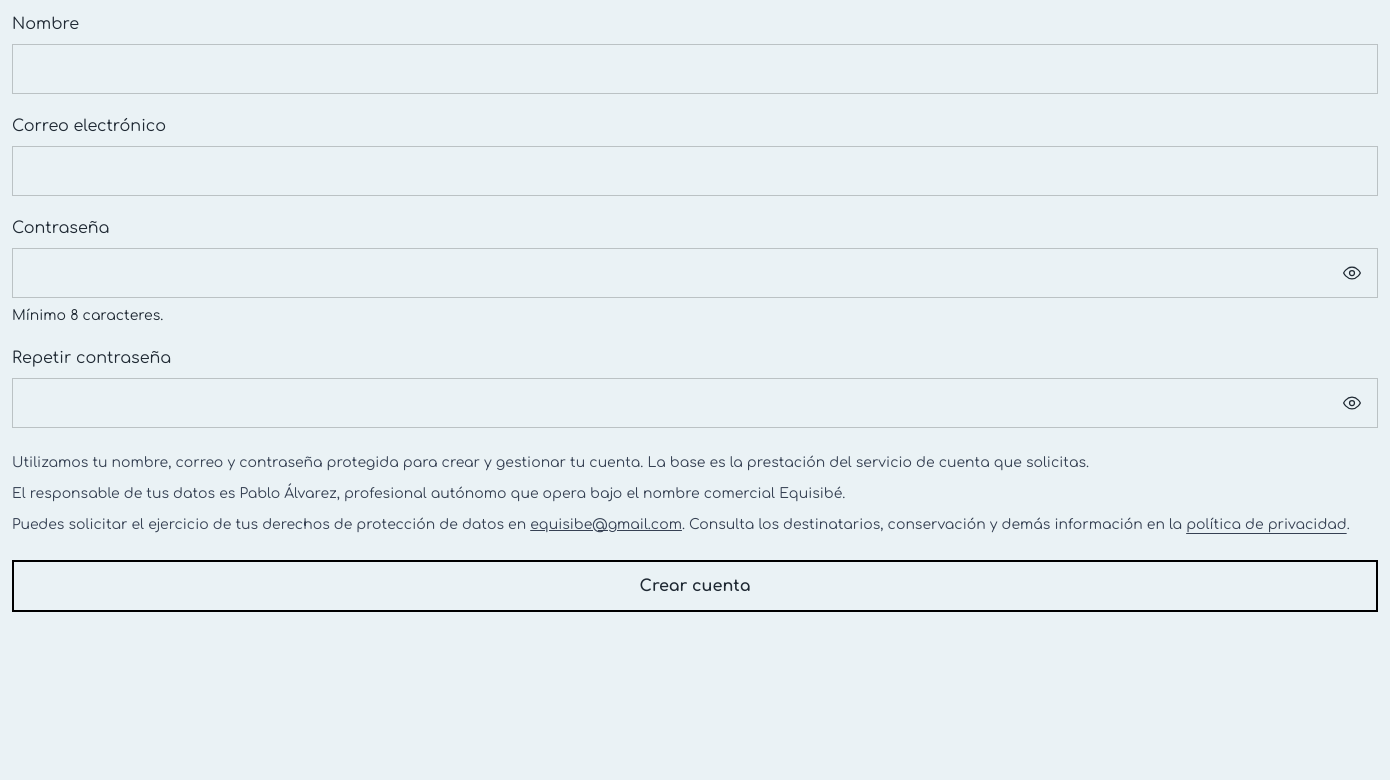
Scenario: RegisterForm › shows the duplicate email error and stays on registration
Type " Andrea " into the field with id "name" at (695, 69), box [12, 44, 1378, 94]
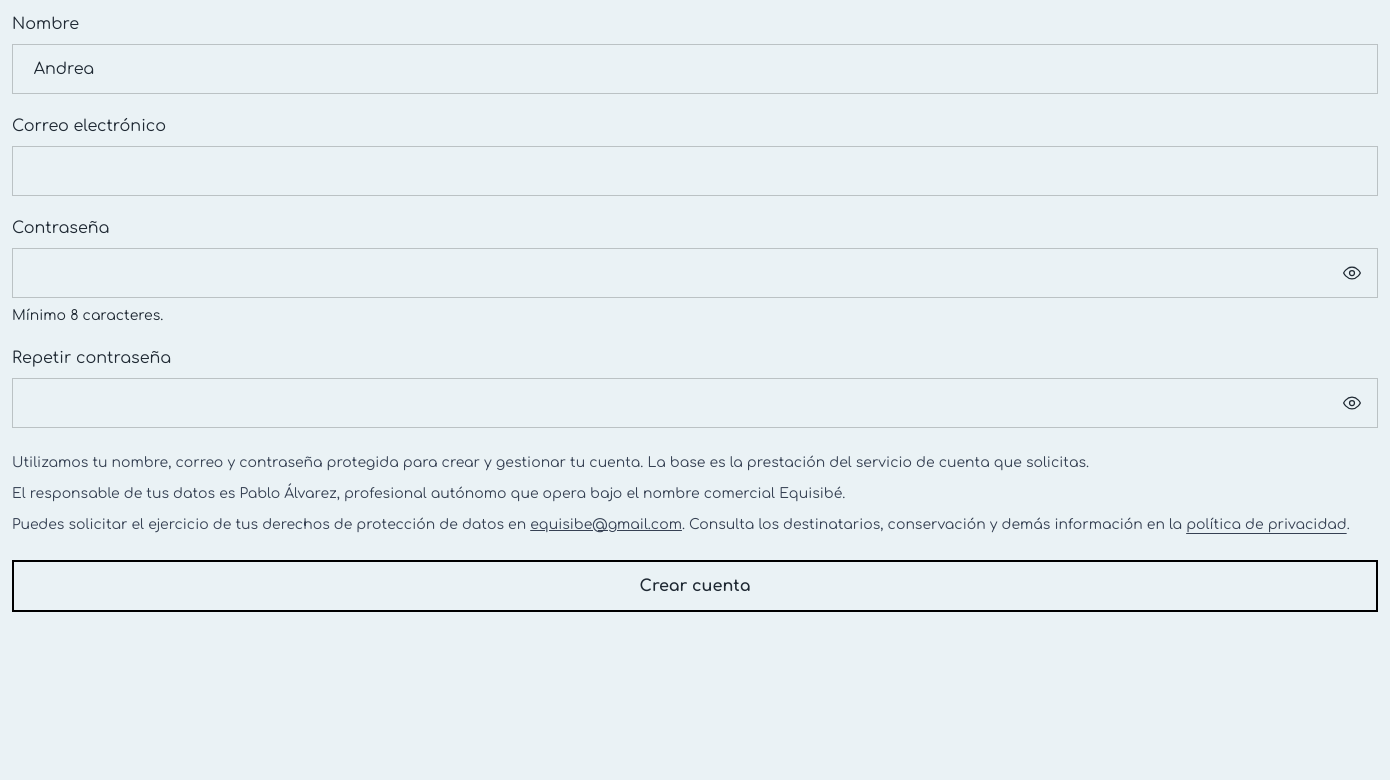
Type "andrea@example.com" into the field with id "email" at (695, 171), box [12, 146, 1378, 196]
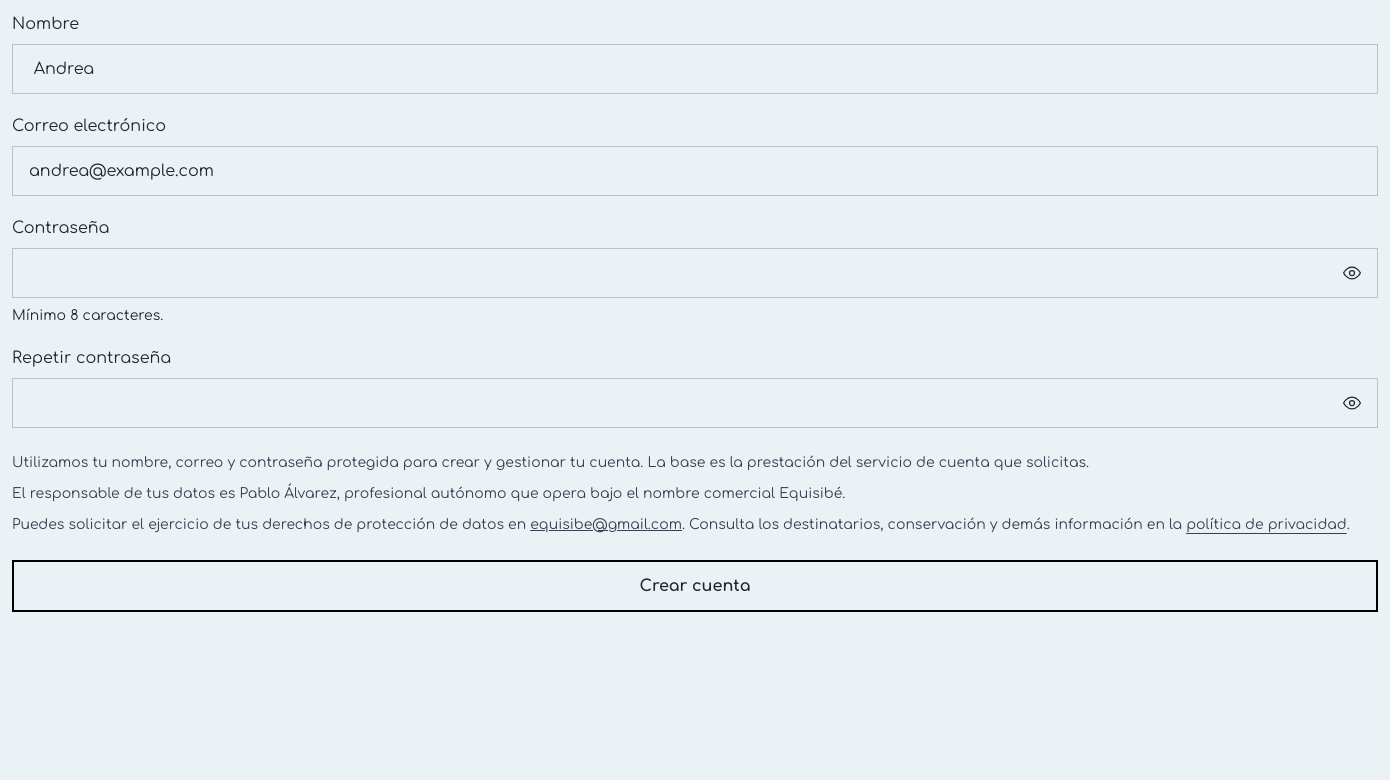
Type "Password123" into the password field labelled "Contraseña" at (695, 273), box [12, 248, 1378, 298]
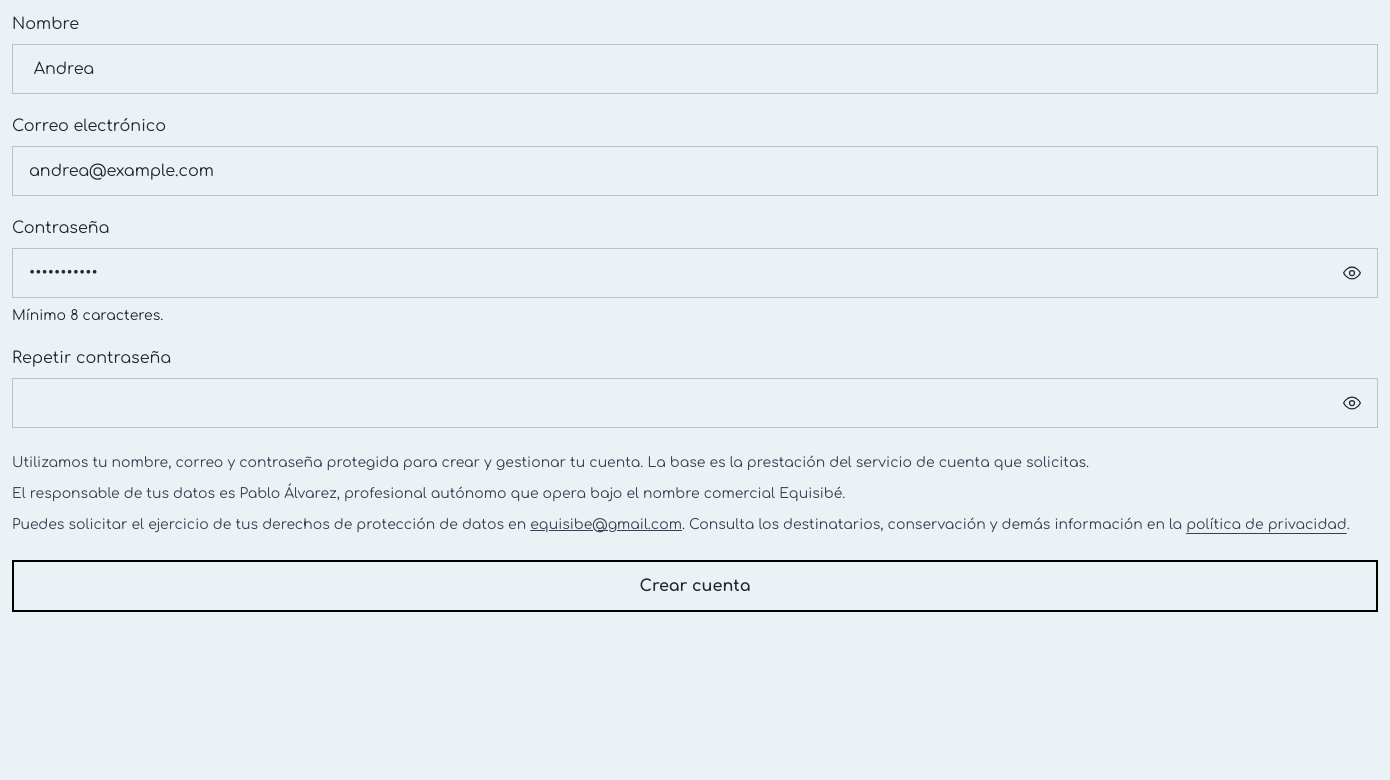
Type "Password123" into the password field with id "confirmPassword" at (695, 403), box [12, 378, 1378, 428]
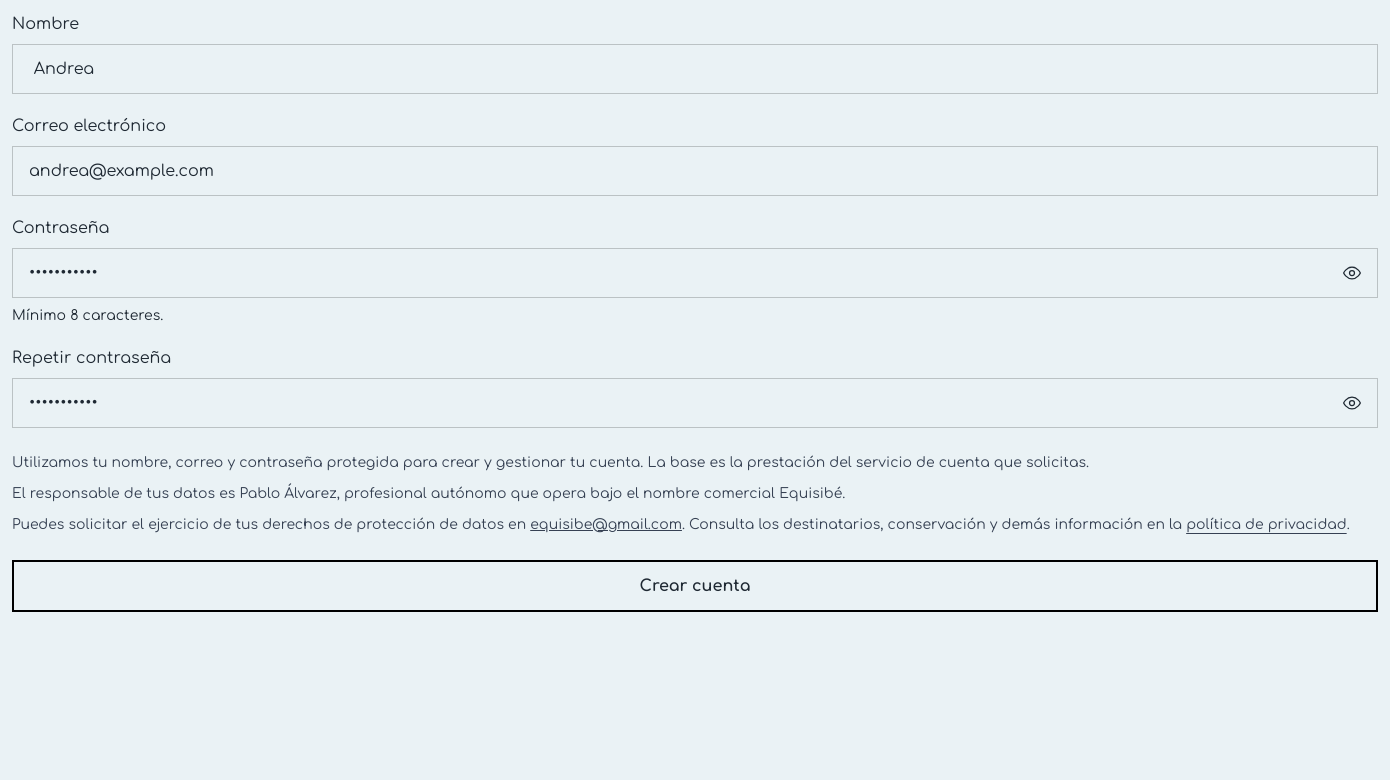
Submit the form
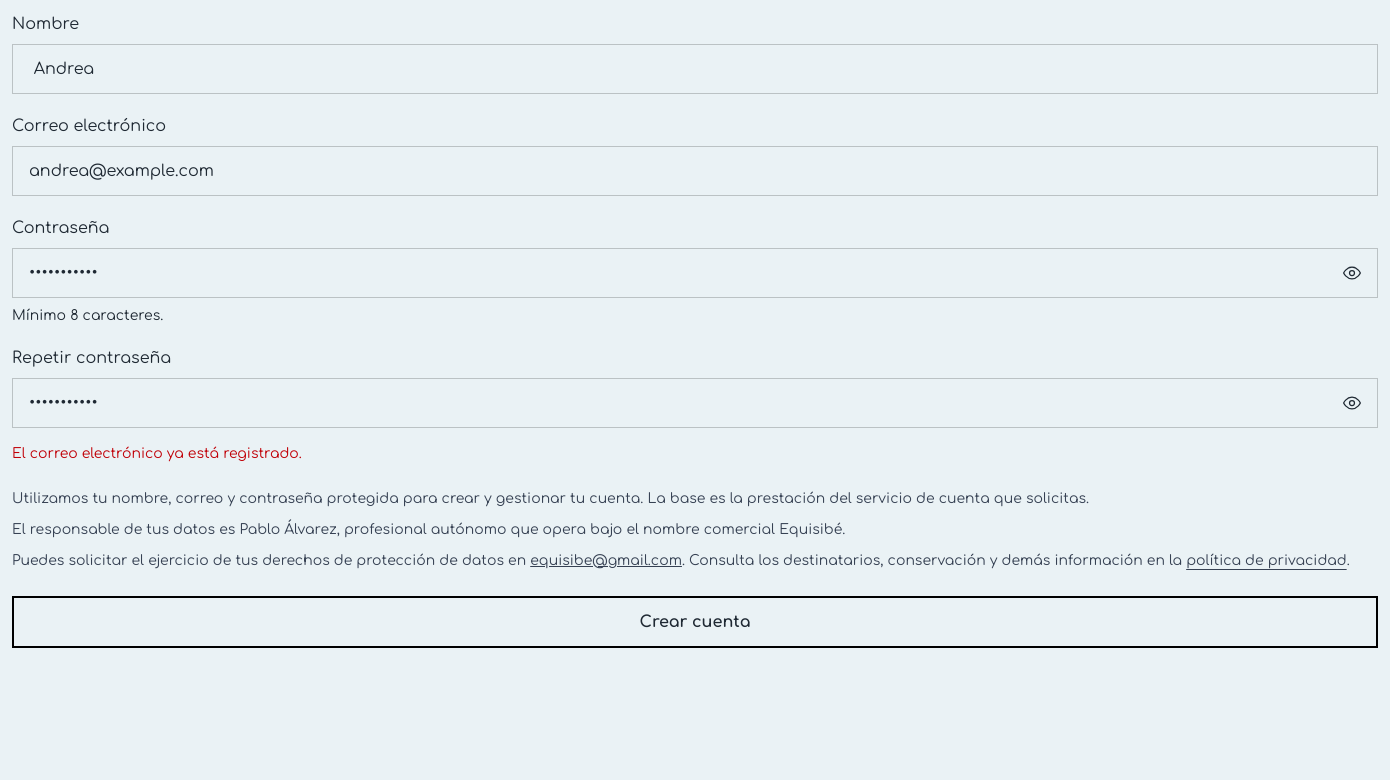
Expected: the submit button is enabled, [12, 596, 1378, 648]
Result: the message "El correo electrónico ya está registrado." is shown at [12, 446, 302, 461]
